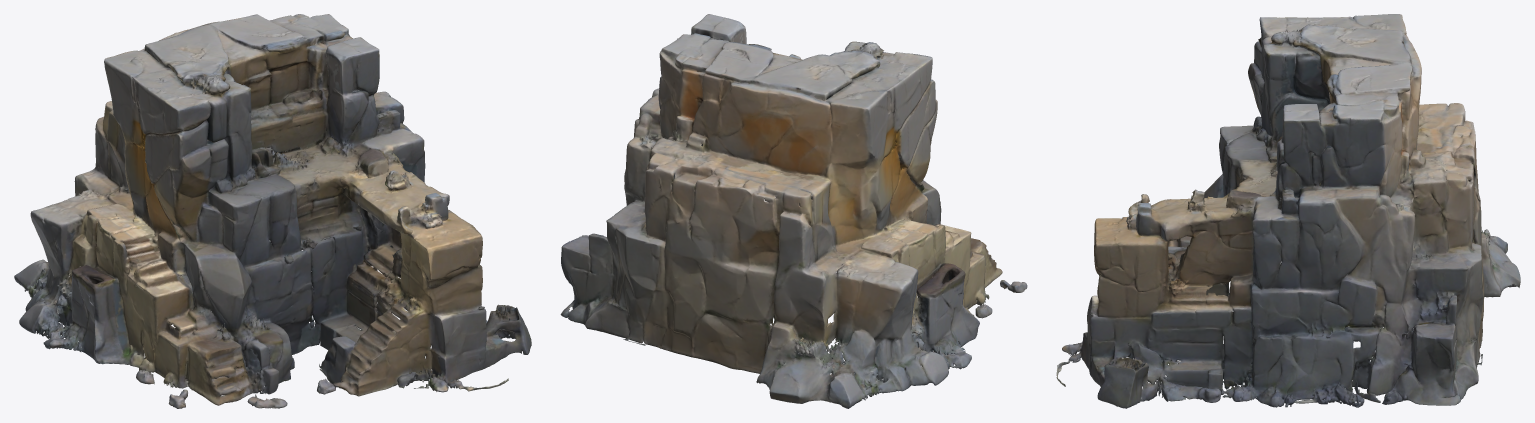
The model's file is stone 2.glb.
3 views of the same model, side by side, from view 1: azimuth 30°, elevation 25°; view 2: azimuth 150°, elevation 25°; view 3: azimuth 270°, elevation 25° (orthographic).
Bounding box in the file's own units: 1.83 × 1.28 × 1.98.
1 material, 1 textured.
